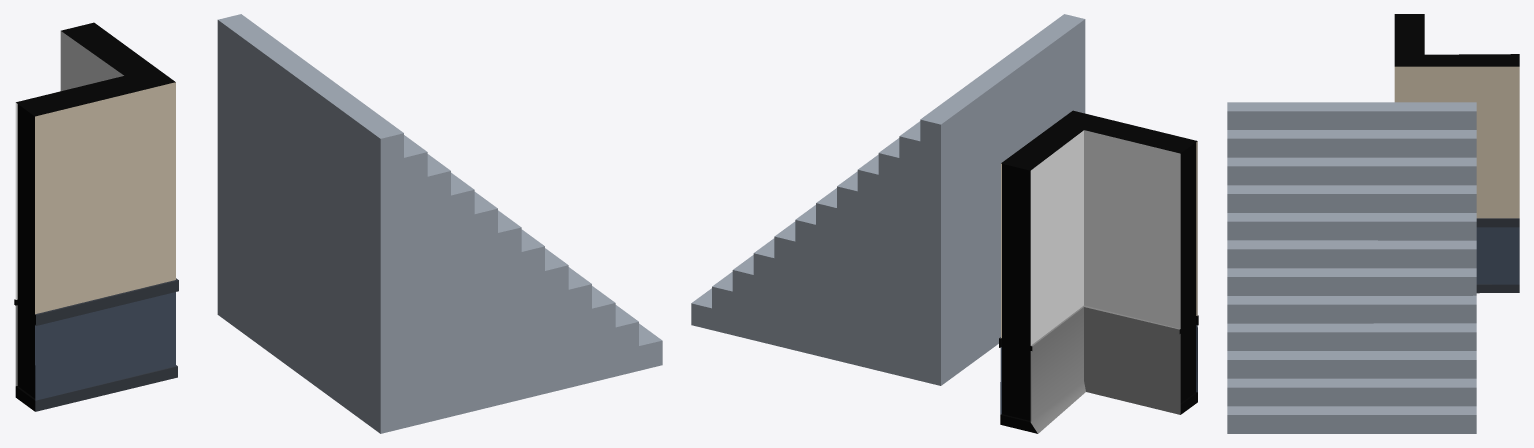
The model's file is Cosas3.fbx.
The picture shows the model from 3 angles, left to right: view 1: azimuth 30°, elevation 25°; view 2: azimuth 150°, elevation 25°; view 3: azimuth 270°, elevation 25°; orthographic projection. The views are drawn at different scales.
Visible parts, largest first — view 1: Escalera, WallCorner; view 2: Escalera, WallCorner; view 3: Escalera, WallCorner.
Boxes of the visible parts, x1,y1,x2,y2 form: Escalera: [217, 14, 662, 433]; WallCorner: [14, 22, 178, 411]; Escalera: [691, 14, 1085, 385]; WallCorner: [999, 110, 1198, 433]; Escalera: [1227, 102, 1476, 433]; WallCorner: [1394, 14, 1519, 293].
Size of the model in its own units: 551 by 300 by 352.
Materials: 2 (2 with a texture image).
